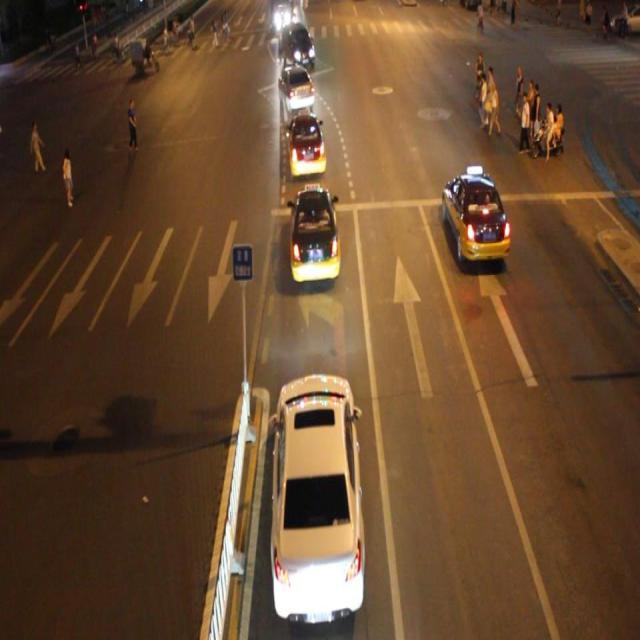car: (270, 373, 362, 617), (441, 172, 509, 262), (287, 186, 340, 282), (286, 112, 326, 178), (278, 67, 314, 113), (279, 20, 313, 66)
